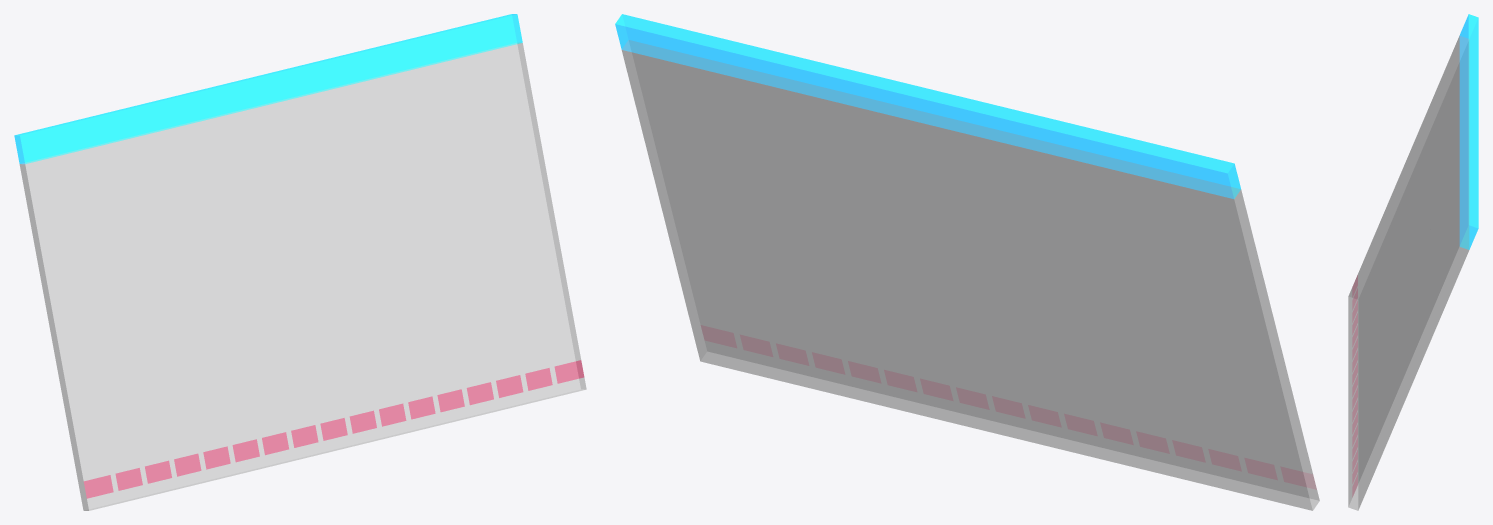
The model's file is Window3.glb.
3 views of the same model, side by side, from view 1: azimuth 30°, elevation 25°; view 2: azimuth 150°, elevation 25°; view 3: azimuth 270°, elevation 25° (orthographic). The views are drawn at different scales.
Parts seen in each view (by area): view 1: Plane.149; view 2: Plane.149; view 3: Plane.149.
Part boxes in pixels (box(x1,y1,x2,y2)): Plane.149: box(14, 14, 586, 510); Plane.149: box(615, 14, 1319, 510); Plane.149: box(1348, 14, 1478, 510).
Size of the model in its own units: 2.99 by 1.89 by 0.7797.
